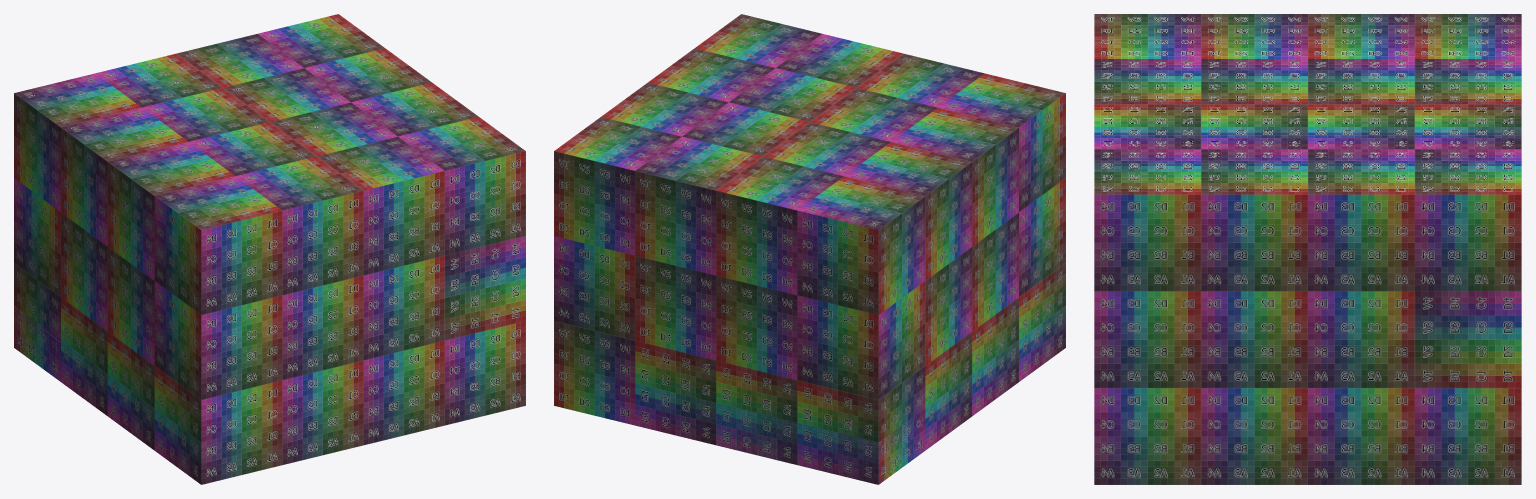
Rendered from GrabAndThrowRoom.gltf.
3 renders of one model, left to right at view 1: azimuth 30°, elevation 25°; view 2: azimuth 150°, elevation 25°; view 3: azimuth 270°, elevation 25°, orthographic. The views are drawn at different scales.
Visible parts, largest first — view 1: Room-col; view 2: Room-col; view 3: Room-col.
Part boxes in pixels (x1,y1,x2,y2): Room-col: (14, 14, 525, 484); Room-col: (554, 14, 1065, 484); Room-col: (1094, 14, 1521, 484).
Size of the model in its own units: 4 by 3 by 4.
Materials: 1 (1 with a texture image).
